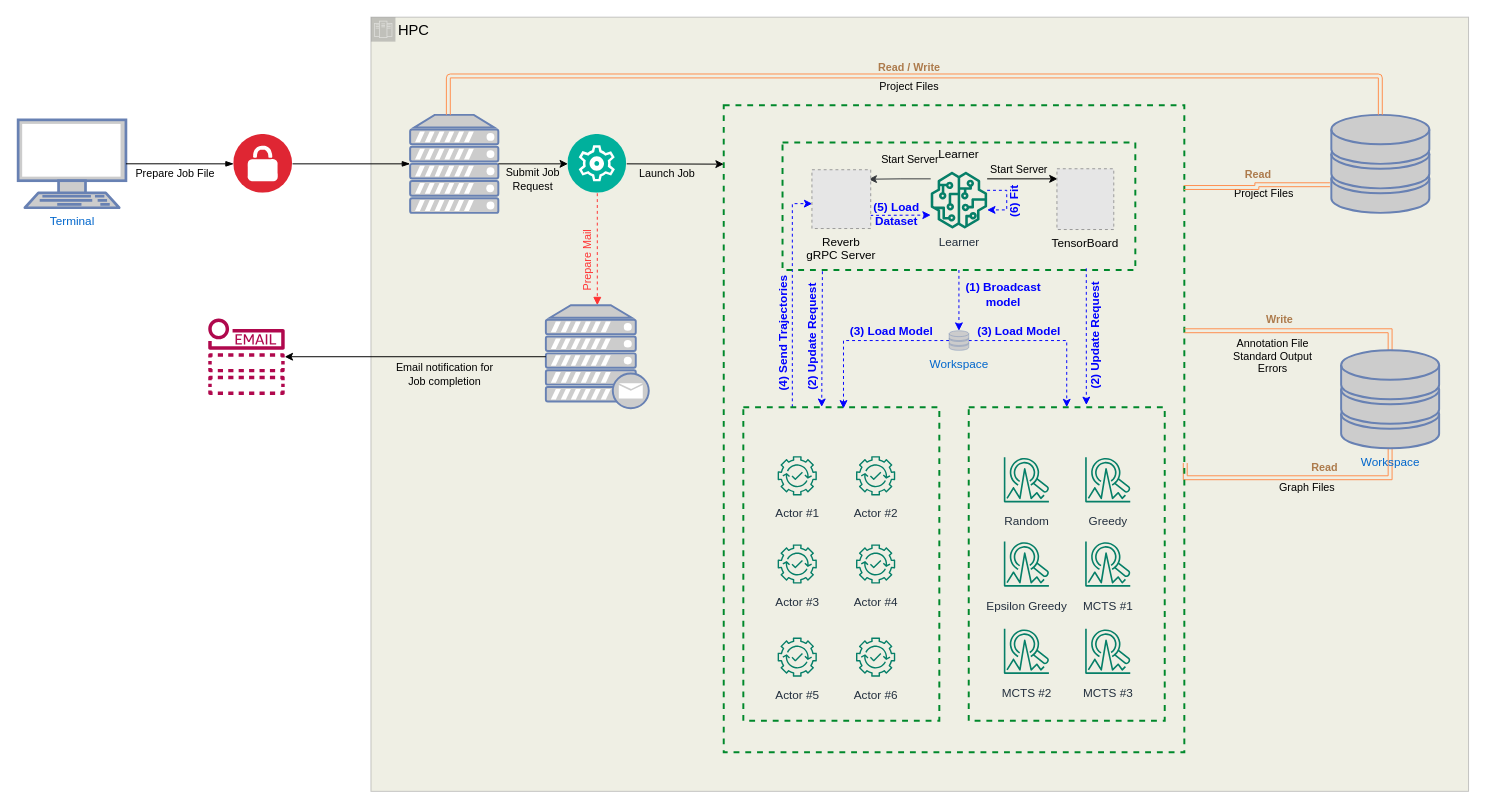
Image size: 1486x809. Some labels were removed from this diagram. Grey dashed boxes stand in for pictures. The shapes that lost their labels are listed below. From the top down, each one's box as (x1, y1, x2, y2) in pixels, then its label:
(233, 134, 292, 193): VPN
(409, 113, 499, 213): Login Node
(567, 134, 626, 193): SLURM
(1330, 113, 1430, 213): Home Storage
(544, 304, 649, 409): Mail Server
(722, 104, 1185, 753): Island 6 - Intel Haswell Cluster
(742, 406, 940, 721): Actors
(967, 406, 1165, 721): Evaluators
